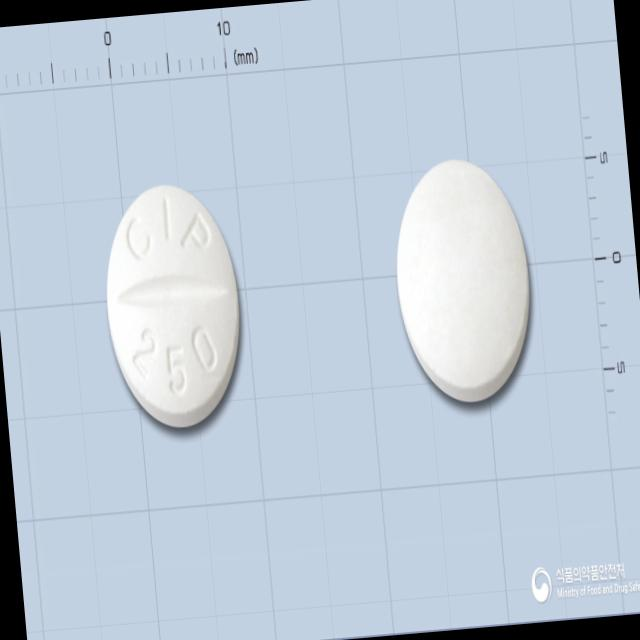Propocin Tab: (98, 179, 250, 432)
